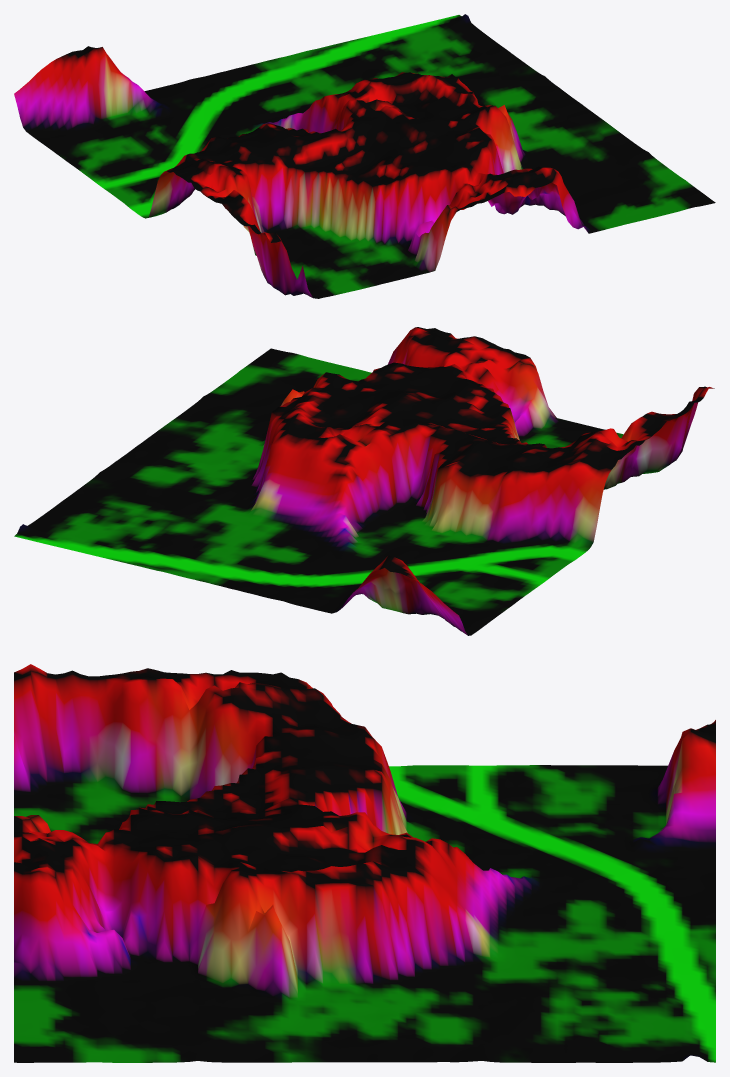
Rendered from SM_AlUla_Terrain_0_2.fbx.
3 renders of one model, top to bottom at view 1: azimuth 30°, elevation 25°; view 2: azimuth 150°, elevation 25°; view 3: azimuth 270°, elevation 25°, orthographic. The views are drawn at different scales.
Parts seen in each view (by area): view 1: SM_AlUla_Terrain_0_2; view 2: SM_AlUla_Terrain_0_2; view 3: SM_AlUla_Terrain_0_2.
Part boxes in pixels (box(x1,y1,x2,y2)): SM_AlUla_Terrain_0_2: box(14, 14, 715, 298); SM_AlUla_Terrain_0_2: box(14, 327, 714, 635); SM_AlUla_Terrain_0_2: box(14, 664, 715, 1062).
Size of the model in its own units: 50400 by 8372 by 50400.
